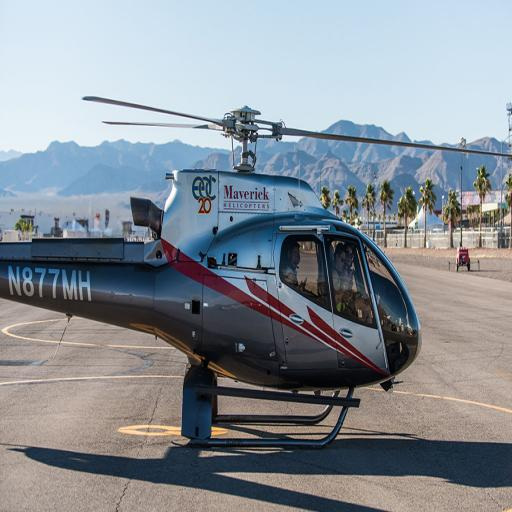helicopter: (2, 71, 470, 459)
